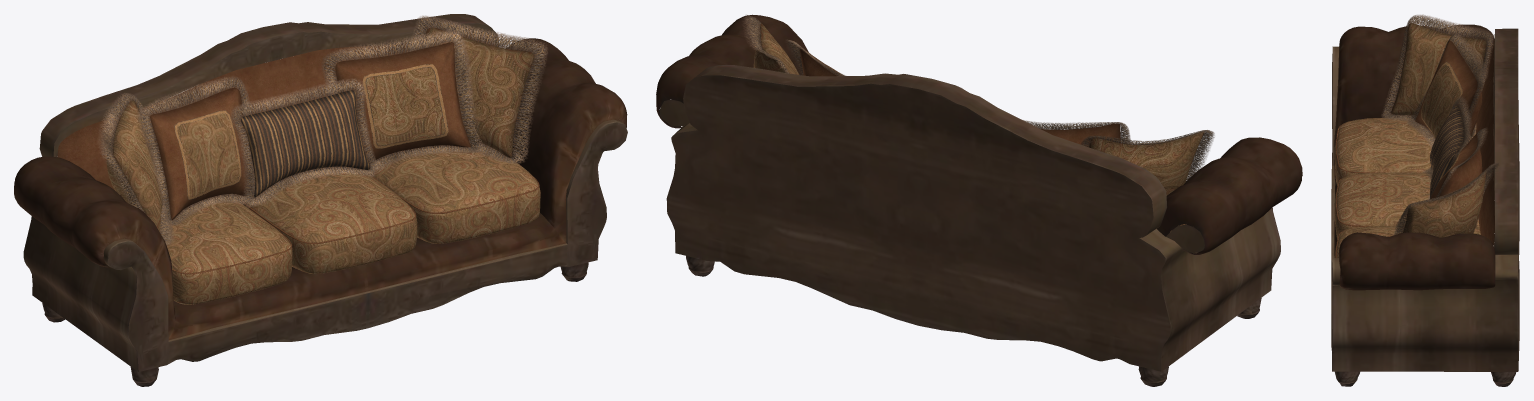
Rendered from sofa.glb.
3 renders of one model, left to right at view 1: azimuth 30°, elevation 25°; view 2: azimuth 150°, elevation 25°; view 3: azimuth 270°, elevation 25°, orthographic. The views are drawn at different scales.
Parts seen in each view (by area): view 1: Frame, Paisley, Fringe, Brown, Stripes, Frame_Fabric; view 2: Frame, Paisley, Fringe, Brown; view 3: Frame, Paisley, Fringe, Brown, Frame_Fabric, Stripes.
Part boxes in pixels (x1=…): Frame: x1=14, y1=14, x2=627, y2=386; Paisley: x1=106, y1=27, x2=540, y2=304; Fringe: x1=98, y1=15, x2=547, y2=246; Brown: x1=150, y1=42, x2=539, y2=274; Stripes: x1=174, y1=64, x2=448, y2=199; Frame_Fabric: x1=57, y1=34, x2=494, y2=189; Frame: x1=656, y1=14, x2=1302, y2=386; Paisley: x1=753, y1=23, x2=1204, y2=231; Fringe: x1=743, y1=15, x2=1214, y2=181; Brown: x1=799, y1=47, x2=1183, y2=225; Frame: x1=1331, y1=24, x2=1519, y2=386; Paisley: x1=1334, y1=23, x2=1486, y2=257; Fringe: x1=1381, y1=14, x2=1498, y2=235; Brown: x1=1335, y1=40, x2=1482, y2=257; Frame_Fabric: x1=1476, y1=39, x2=1494, y2=245; Stripes: x1=1421, y1=61, x2=1471, y2=198.
Size of the model in its own units: 2.73 by 1.12 by 0.9225.
Materials: 6 (6 with a texture image).
